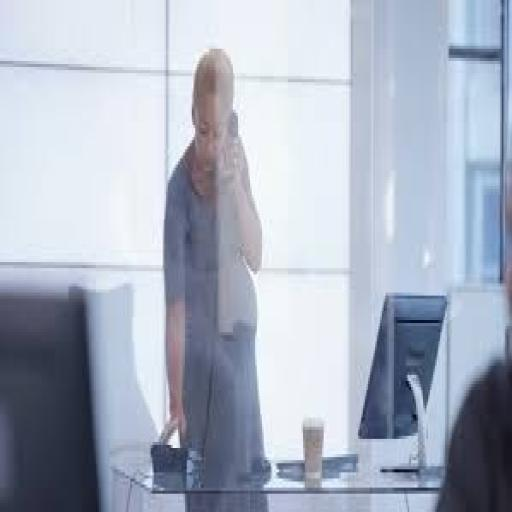calling: (160, 42, 272, 500)
